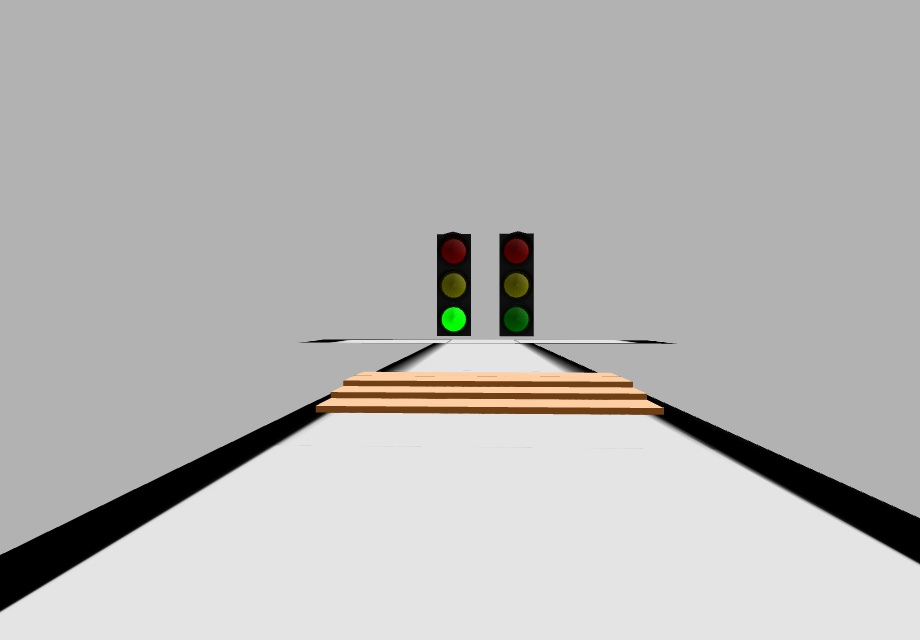green_off: (501, 304, 533, 336)
green_on: (437, 306, 468, 336)
stairs: (316, 372, 665, 414)
